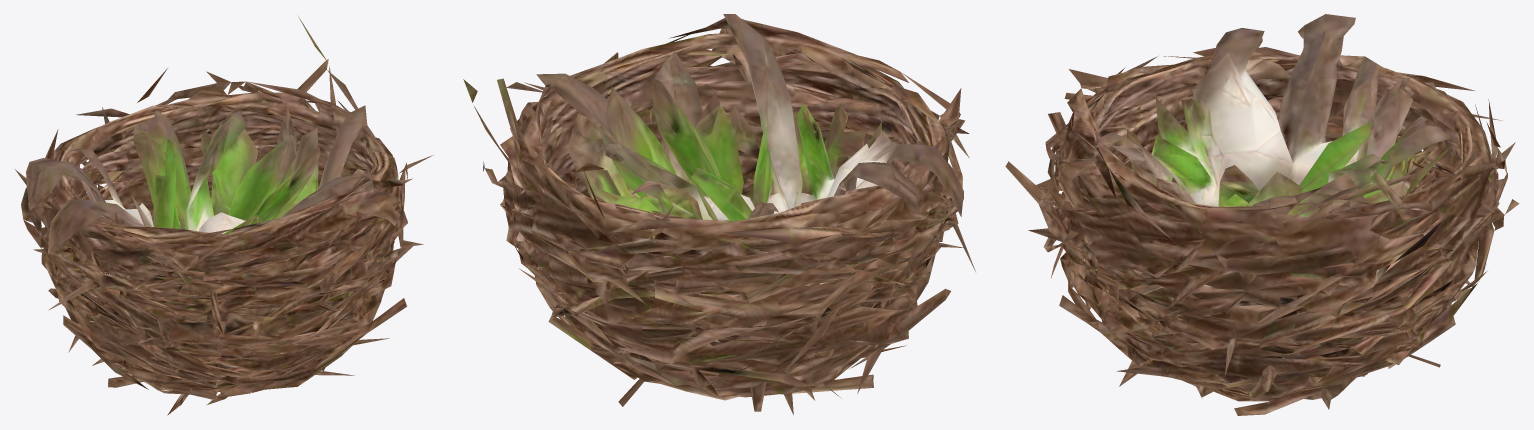
File: prop-raven-nest.glb
The picture shows the model from 3 angles, left to right: view 1: azimuth 30°, elevation 25°; view 2: azimuth 150°, elevation 25°; view 3: azimuth 270°, elevation 25°; orthographic projection. The views are drawn at different scales.
Bounding box in the file's own units: 1.9 × 1.27 × 1.84.
1 material, 1 textured.
